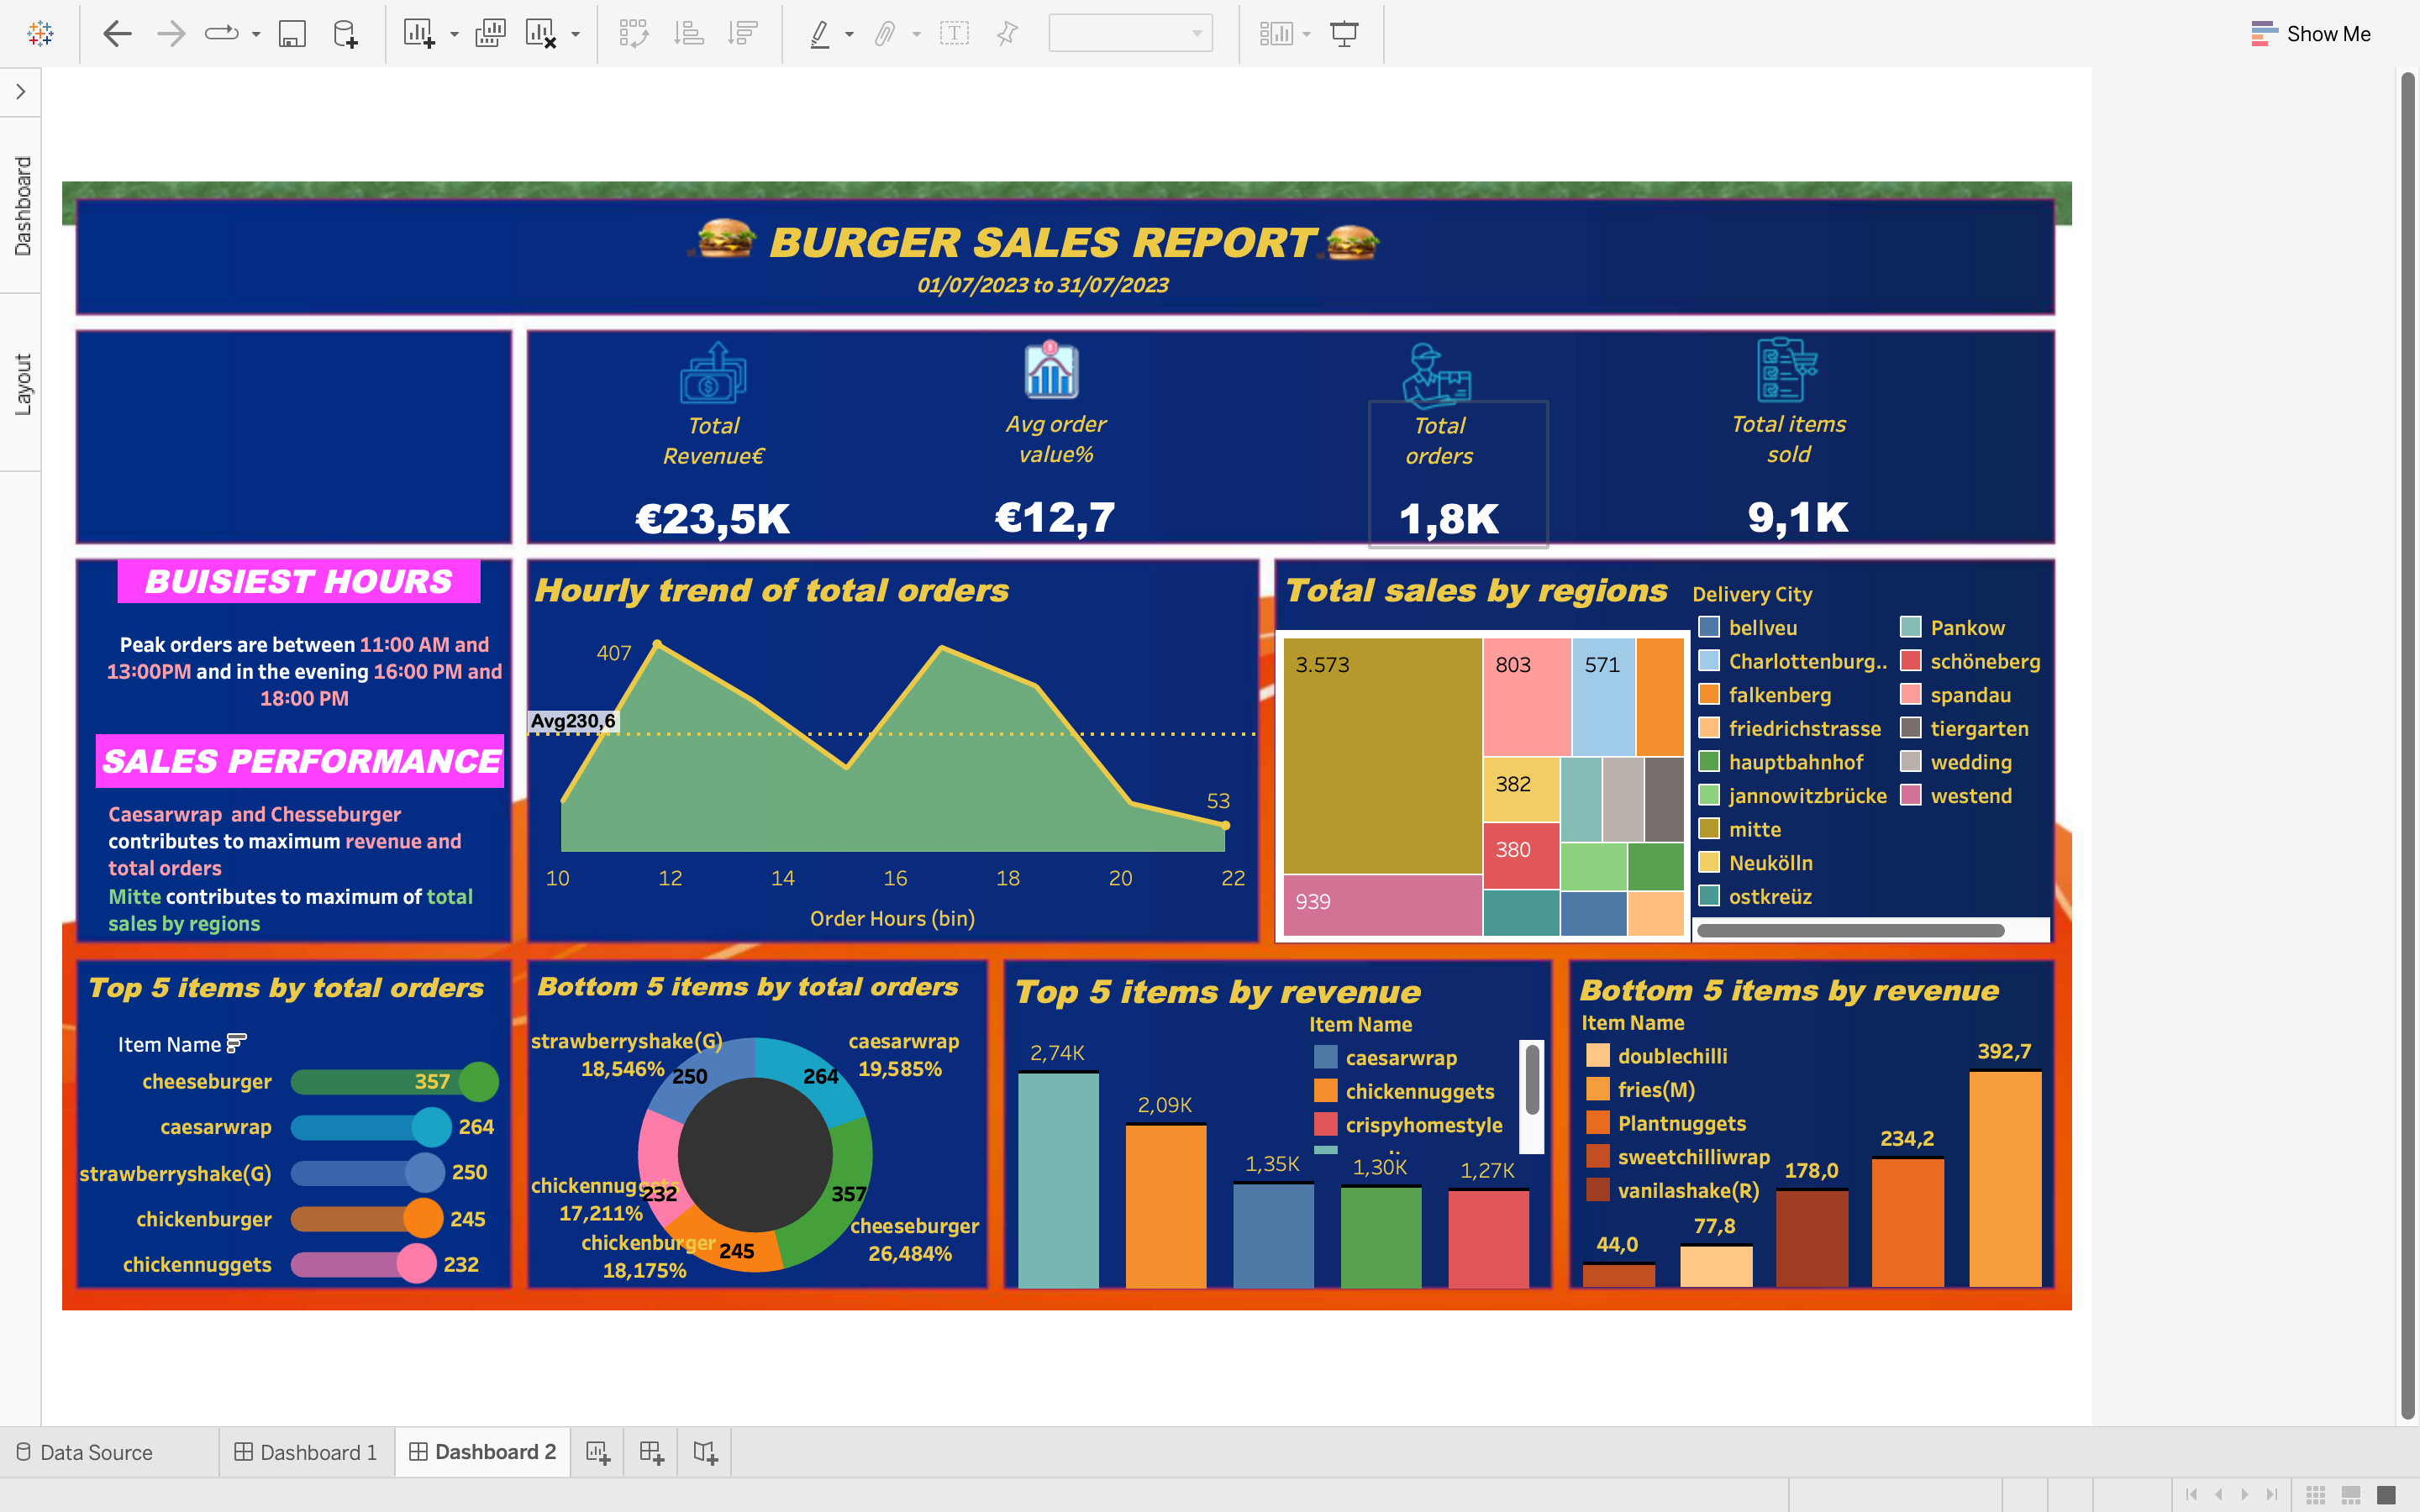

The dashboard page shown, as its layout file describes it:
{"tool":"tableau","page":{"name":"Dashboard 2","canvas":[1000,1000],"units":"permille","ordinal":1},"visuals":[{"type":"image","param":"Image/Presentation1 1.jpg","box":[6.7,11.8,986.6,976.5]},{"type":"image","param":"Image/Big-KING.png","box":[306.2,41.1,44.5,58.7]},{"type":"image","param":"Image/Big-KING.png","box":[625.8,41.1,40.3,60.2]},{"type":"text","box":[328.9,47,319.6,73.4]},{"type":"image","param":"Image/profit-growth.png","box":[316.3,145.4,36.9,60.2]},{"type":"image","param":"Image/2248720.png","box":[484.9,146.8,31,60.2]},{"type":"image","param":"Image/order-delivery.png","box":[838.9,149.8,32.7,57.3]},{"type":"image","param":"Image/delivery-man.png","box":[664.4,154.2,34.4,54.3]},{"type":"worksheet","title":"Sheet 4","mark":"Automatic","box":[820.5,201.2,118.3,126.3]},{"type":"worksheet","title":"Sheet 2","mark":"Automatic","box":[463.9,205.6,104,127.8]},{"type":"worksheet","title":"Sheet 3","mark":"Automatic","box":[646.8,205.6,88.9,129.2]},{"type":"worksheet","title":"Sheet 1","mark":"Automatic","box":[290.3,208.5,112.4,135.1]},{"type":"worksheet","title":"Sheet 5","mark":"Area","rows":["total_orders","total_orders"],"cols":["Order Hours (bin)"],"box":[236.6,339.2,355.7,326]},{"type":"worksheet","title":"Sheet 10","mark":"Automatic","box":[602.4,340.7,201.3,328.9]},{"type":"text","box":[36.9,343.6,178.7,33.8]},{"type":"text","box":[20.1,377.4,207.2,104.3]},{"type":"text","box":[21,472.8,205.5,36.7]},{"type":"text","box":[20.1,524.2,207.2,138]},{"type":"worksheet","title":"Sheet 9","mark":"Pie","rows":["Calculation_172896013408075780","Calculation_172896013408075780"],"box":[237.4,682.8,220.6,276.1]},{"type":"worksheet","title":"Sheet 6","mark":"Automatic","rows":["total_revenue€","total_revenue€"],"cols":["item_name"],"box":[469.8,682.8,266.8,277.5]},{"type":"worksheet","title":"Sheet 7","mark":"Bar","rows":["total_revenue€","total_revenue€"],"cols":["item_name"],"box":[745,682.8,235.7,277.5]},{"type":"worksheet","title":"Sheet 8","mark":"Line","rows":["item_name"],"cols":["total_orders"],"box":[15.9,684.3,211.4,279]},{"type":"legend","title":"Sheet 7","param":"[federated.0biavtb1x3sd1t1955vu71ttgwik].[none:item_name:nk]","box":[747.5,725.4,113.3,176.2]},{"type":"legend","title":"Sheet 6","param":"[federated.19e4rfg1y8g0gx1go0oug1og9nst].[none:item_name:nk]","box":[619.1,738.6,115.8,107.2]}]}

Visuals, with their boxes on the dashboard's canvas, which has no fixed pixel size, in thousandths of its width and height (x1, y1, x2, y2). These are canvas units, not pixel positions in the 2420x1512 screenshot, which may show the page scaled, cropped or inside an application window:
image: (7, 12, 993, 988)
image: (306, 41, 351, 100)
image: (626, 41, 666, 101)
text: (329, 47, 648, 120)
image: (316, 145, 353, 206)
image: (485, 147, 516, 207)
image: (839, 150, 872, 207)
image: (664, 154, 699, 208)
"Sheet 4" worksheet: (820, 201, 939, 328)
"Sheet 2" worksheet: (464, 206, 568, 333)
"Sheet 3" worksheet: (647, 206, 736, 335)
"Sheet 1" worksheet: (290, 208, 403, 344)
"Sheet 5" worksheet (Area marks): (237, 339, 592, 665)
"Sheet 10" worksheet: (602, 341, 804, 670)
text: (37, 344, 216, 377)
text: (20, 377, 227, 482)
text: (21, 473, 226, 510)
text: (20, 524, 227, 662)
"Sheet 9" worksheet (Pie marks): (237, 683, 458, 959)
"Sheet 6" worksheet: (470, 683, 737, 960)
"Sheet 7" worksheet (Bar marks): (745, 683, 981, 960)
"Sheet 8" worksheet (Line marks): (16, 684, 227, 963)
"Sheet 7" legend: (748, 725, 861, 902)
"Sheet 6" legend: (619, 739, 735, 846)
